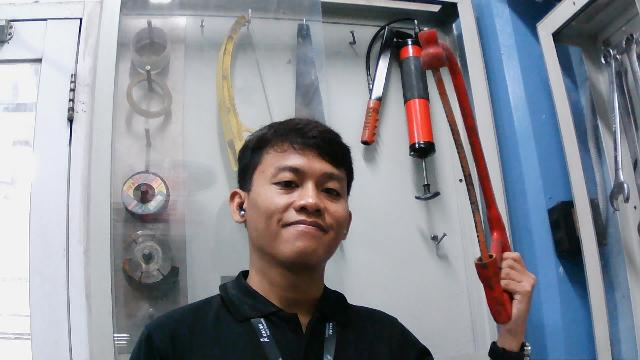gergaji_besi: (408, 24, 543, 328)
